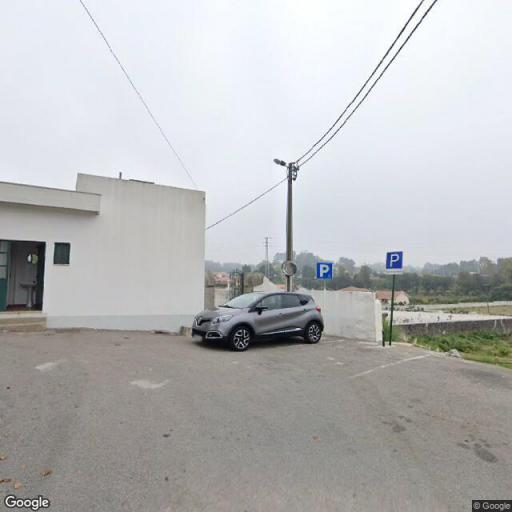ss_4: (262, 234, 272, 280)
